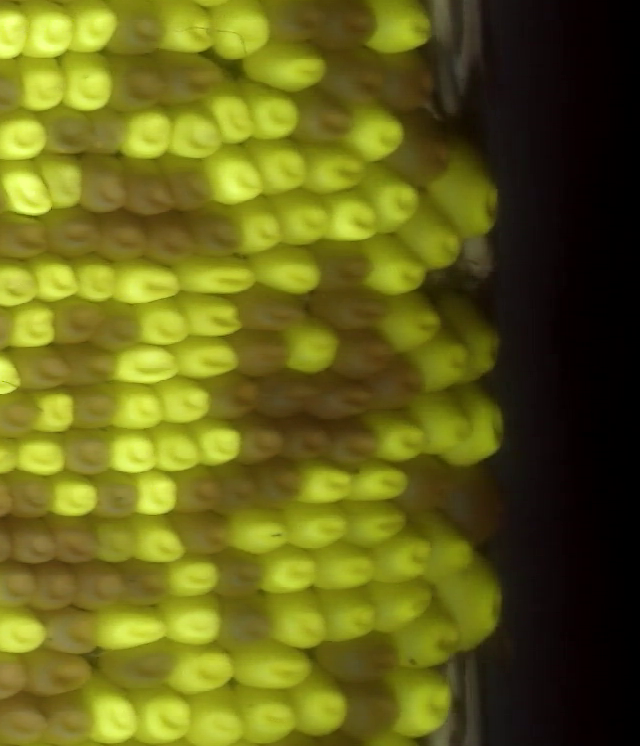fluorescent: (438, 554, 506, 653), (437, 149, 499, 244), (355, 156, 419, 234), (388, 661, 455, 735), (412, 507, 477, 581), (453, 383, 507, 472), (265, 588, 335, 649), (244, 41, 327, 91), (361, 403, 425, 467), (412, 390, 475, 455), (235, 639, 313, 691), (287, 672, 349, 737), (362, 234, 427, 295), (343, 101, 407, 160), (318, 586, 382, 643), (58, 51, 117, 112), (87, 677, 141, 743), (177, 253, 258, 296), (396, 609, 458, 665), (367, 2, 433, 54), (223, 506, 293, 555), (93, 607, 170, 651), (387, 296, 444, 355), (249, 140, 309, 196), (253, 245, 322, 293), (458, 309, 504, 381), (167, 104, 222, 164), (206, 151, 266, 206), (314, 540, 377, 592), (175, 293, 243, 341), (212, 3, 270, 59), (417, 330, 470, 391), (137, 690, 194, 746), (203, 85, 255, 146), (191, 413, 245, 471), (302, 144, 367, 192), (343, 501, 409, 548), (286, 318, 343, 372), (238, 692, 296, 745), (171, 649, 235, 697), (108, 377, 167, 429), (23, 2, 78, 57), (243, 85, 299, 139), (132, 296, 188, 350), (119, 108, 176, 161), (112, 344, 182, 387), (175, 334, 243, 378), (371, 532, 432, 581), (113, 260, 180, 304), (276, 192, 330, 246), (283, 507, 350, 550), (295, 460, 356, 507), (154, 423, 208, 476), (191, 696, 249, 745), (324, 187, 374, 243), (20, 61, 72, 114), (40, 150, 87, 208), (161, 4, 216, 53), (109, 427, 164, 476), (372, 583, 430, 629), (4, 165, 53, 219), (167, 601, 222, 649), (261, 548, 317, 595), (166, 549, 218, 599), (234, 201, 283, 253), (67, 6, 120, 54), (134, 518, 187, 566), (0, 606, 48, 659), (7, 302, 58, 351), (32, 386, 80, 438), (159, 376, 211, 424), (0, 113, 48, 164), (30, 251, 76, 303), (134, 471, 181, 518), (76, 251, 118, 303), (351, 465, 407, 504), (54, 471, 96, 519), (17, 439, 71, 474), (0, 255, 33, 308), (0, 6, 30, 60)
nonfluorescent: (446, 464, 511, 549), (317, 629, 401, 683), (393, 117, 451, 187), (103, 53, 171, 112), (320, 46, 382, 109), (117, 153, 177, 218), (301, 371, 374, 422), (169, 46, 230, 106), (293, 83, 350, 146), (238, 283, 308, 334), (311, 287, 388, 333), (311, 237, 374, 292), (102, 643, 174, 690), (380, 49, 432, 111), (345, 682, 403, 737), (397, 454, 451, 513), (225, 329, 292, 375), (76, 154, 128, 213), (333, 332, 395, 381), (111, 3, 166, 56), (45, 103, 97, 159), (209, 546, 265, 598), (219, 595, 272, 649), (27, 649, 92, 693), (166, 156, 216, 213), (255, 371, 318, 416), (374, 360, 428, 412), (46, 207, 99, 259), (190, 204, 239, 260), (206, 372, 258, 423), (44, 606, 98, 655), (44, 691, 93, 744), (150, 214, 196, 269), (60, 428, 111, 476), (16, 344, 69, 390), (12, 472, 59, 523), (237, 416, 282, 469), (51, 513, 99, 562), (177, 509, 224, 559), (98, 214, 146, 262), (176, 465, 219, 518), (122, 560, 169, 608), (0, 698, 48, 745), (14, 517, 60, 566), (61, 296, 101, 350), (1, 217, 49, 262), (0, 391, 44, 440), (30, 561, 75, 608), (281, 427, 333, 467), (98, 301, 139, 350), (256, 460, 297, 509), (96, 471, 138, 518), (75, 385, 118, 430), (65, 345, 109, 388), (218, 459, 251, 516), (77, 564, 118, 609), (330, 422, 371, 465), (90, 107, 124, 155), (0, 564, 37, 606), (0, 651, 30, 702)
